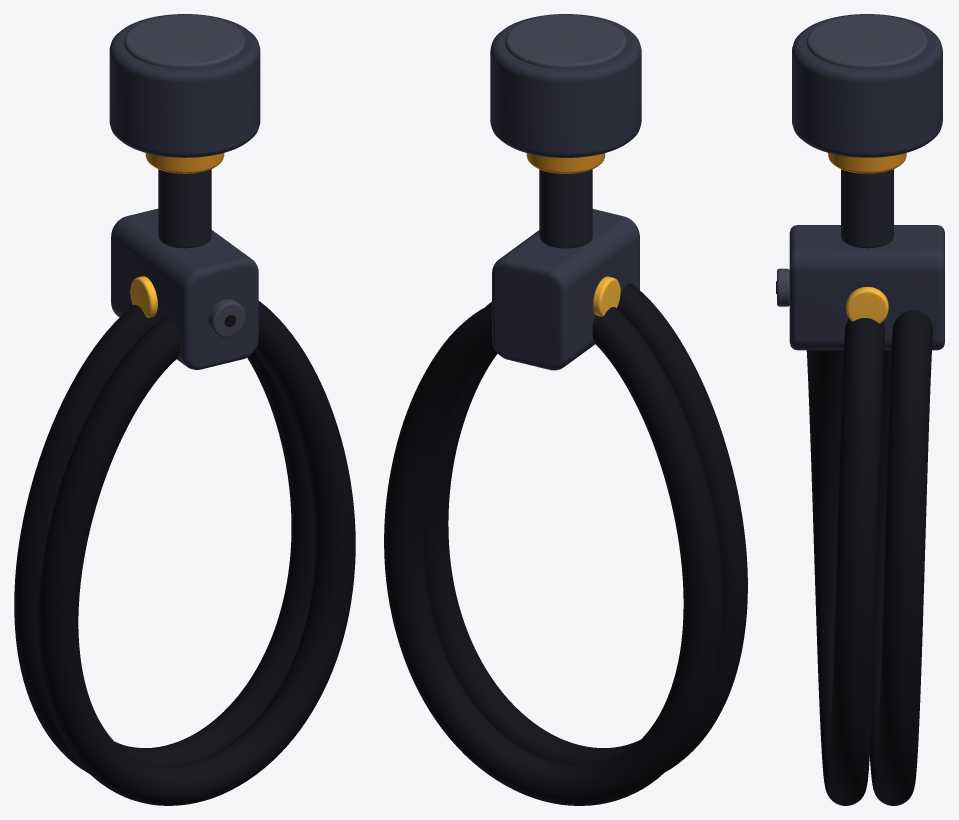
The model's file is CeilingCable.glb.
3 views of the same model, side by side, from view 1: azimuth 30°, elevation 25°; view 2: azimuth 150°, elevation 25°; view 3: azimuth 270°, elevation 25° (orthographic).
Parts seen in each view (by area): view 1: ContinuousDoubleCableLoop, CeilingPlugCap, CableClamp, CapTopInset, ShortPlugStem, GoldPlugCollar, ClampFacePin, GoldHingePin; view 2: ContinuousDoubleCableLoop, CableClamp, CeilingPlugCap, CapTopInset, ShortPlugStem, GoldPlugCollar, GoldHingePin; view 3: ContinuousDoubleCableLoop, CableClamp, CeilingPlugCap, CapTopInset, ShortPlugStem, GoldHingePin, GoldPlugCollar, ClampFacePin.
Part boxes in pixels (x1,y1,x2,y2): ContinuousDoubleCableLoop: [14, 301, 355, 805]; CeilingPlugCap: [109, 14, 260, 157]; CableClamp: [111, 208, 258, 369]; CapTopInset: [124, 14, 245, 68]; ShortPlugStem: [158, 169, 211, 248]; GoldPlugCollar: [145, 153, 224, 173]; ClampFacePin: [208, 299, 245, 337]; GoldHingePin: [130, 276, 157, 317]; ContinuousDoubleCableLoop: [384, 283, 747, 805]; CableClamp: [492, 209, 639, 370]; CeilingPlugCap: [490, 14, 641, 157]; CapTopInset: [505, 14, 626, 68]; ShortPlugStem: [539, 169, 592, 248]; GoldPlugCollar: [526, 153, 605, 173]; GoldHingePin: [593, 276, 620, 316]; ContinuousDoubleCableLoop: [806, 310, 932, 805]; CableClamp: [789, 225, 944, 350]; CeilingPlugCap: [792, 14, 942, 157]; CapTopInset: [807, 14, 927, 68]; ShortPlugStem: [841, 169, 893, 248]; GoldHingePin: [846, 287, 888, 323]; GoldPlugCollar: [828, 153, 906, 173]; ClampFacePin: [777, 268, 789, 306].
Size of the model in its own units: 0.3509 by 0.7809 by 0.159.
7 materials, 7 textured.
